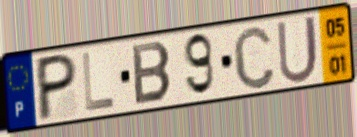9: (181, 33, 217, 100)
B: (130, 40, 174, 107)
C: (230, 23, 277, 92)
L: (80, 49, 117, 115)
P: (36, 51, 79, 125)
U: (274, 13, 320, 86)
